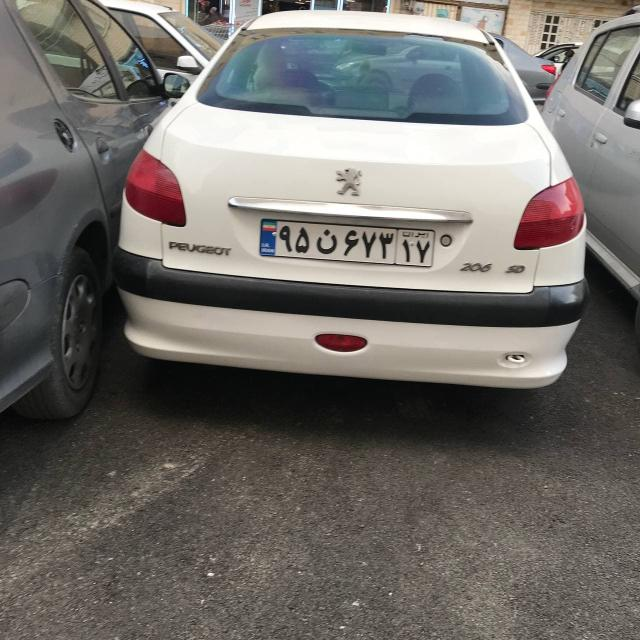Plates: (258, 219, 435, 267)
